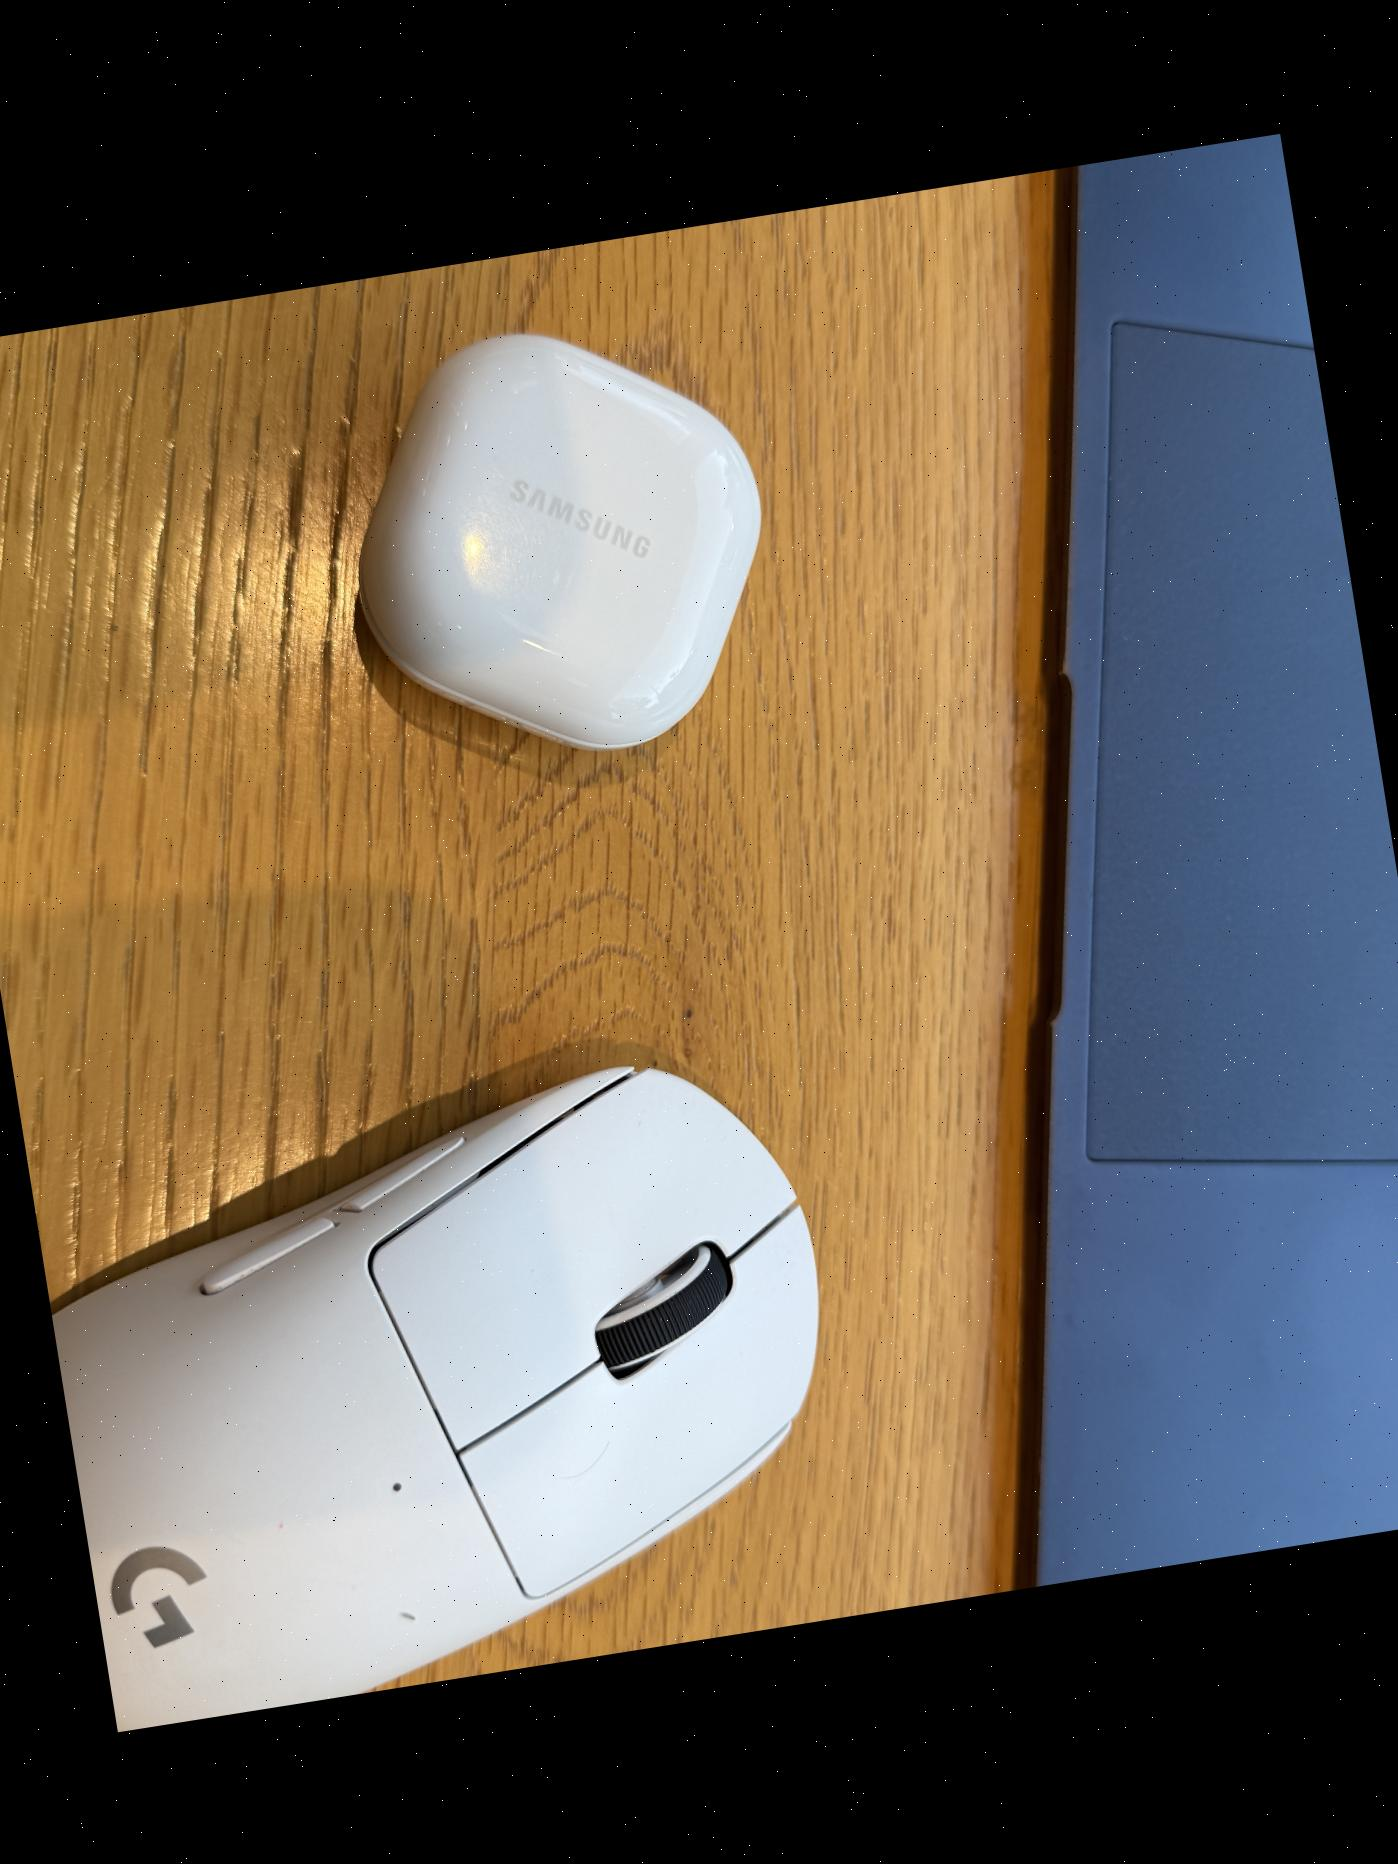front: (25, 1027, 884, 1732)
